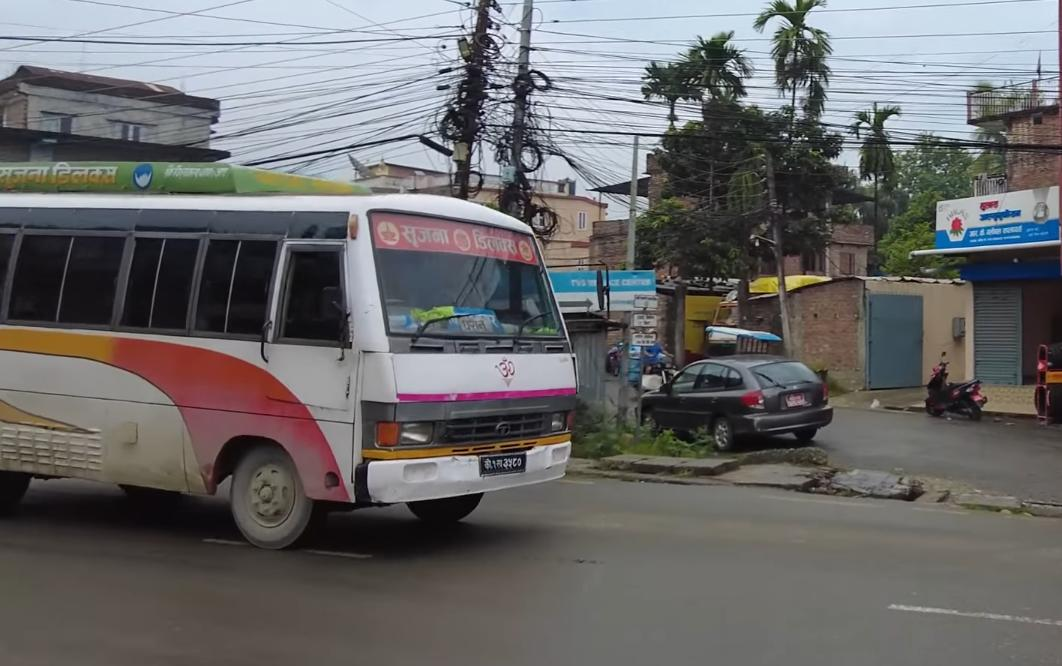bus: (0, 133, 587, 535)
car: (637, 352, 837, 452)
